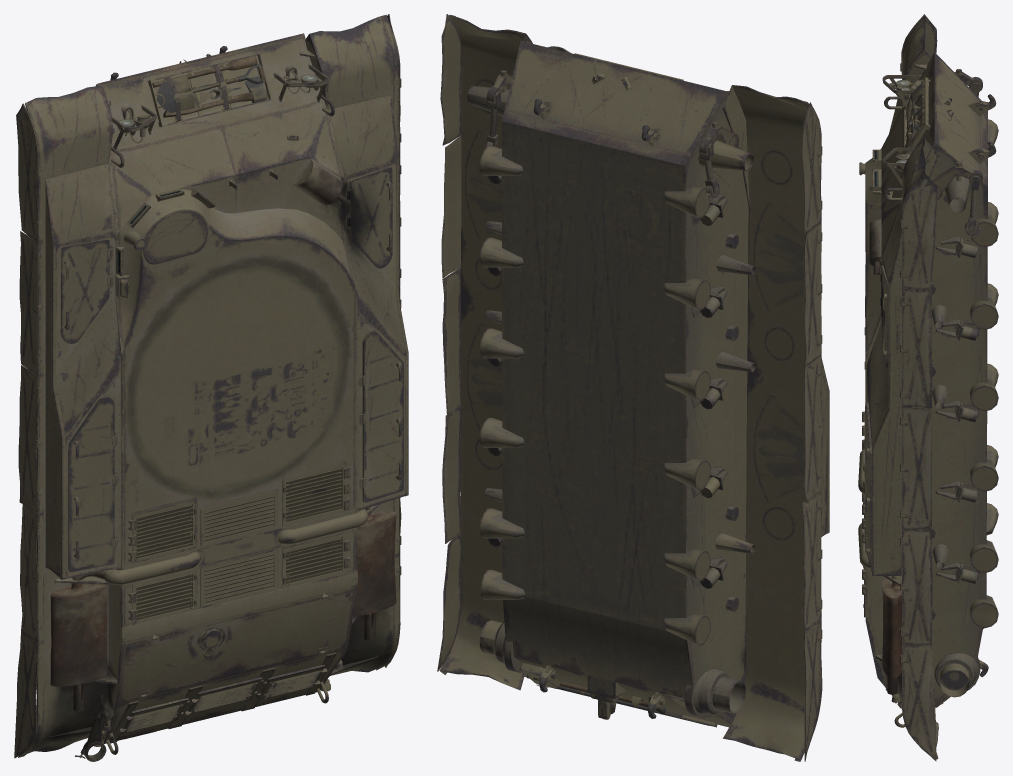
Rendered from Hull.glb.
The picture shows the model from 3 angles, left to right: view 1: azimuth 30°, elevation 25°; view 2: azimuth 150°, elevation 25°; view 3: azimuth 270°, elevation 25°; orthographic projection. The views are drawn at different scales.
Parts seen in each view (by area): view 1: set_0_group_0; view 2: set_0_group_0; view 3: set_0_group_0.
Part boxes in pixels (x1,y1,x2,y2): set_0_group_0: (14, 14, 408, 761); set_0_group_0: (437, 14, 829, 761); set_0_group_0: (858, 14, 998, 761).
Bounding box in the file's own units: 3.32 × 5.66 × 1.22.
Materials: 1 (1 with a texture image).
